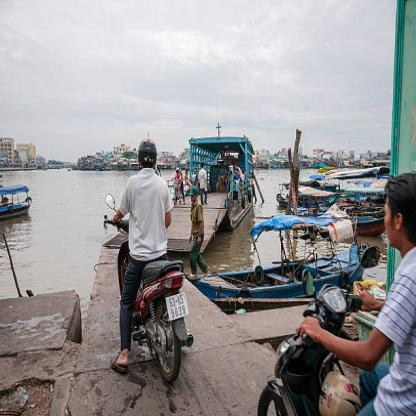Motorcycle: (263, 263, 381, 415), (98, 201, 196, 383)
